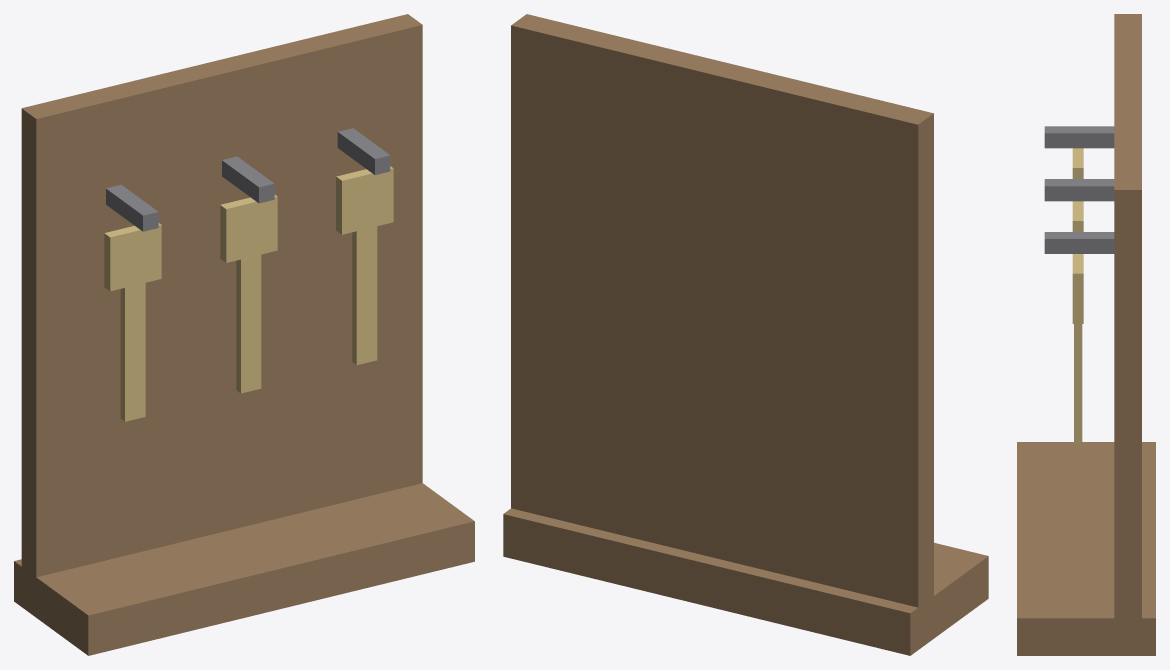
The model's file is prop-key-blank-rack.fbx.
The picture shows the model from 3 angles, left to right: view 1: azimuth 30°, elevation 25°; view 2: azimuth 150°, elevation 25°; view 3: azimuth 270°, elevation 25°; orthographic projection. The views are drawn at different scales.
Visible parts, largest first — view 1: prop-key-blank-rack; view 2: prop-key-blank-rack; view 3: prop-key-blank-rack.
Part boxes in pixels (bbox=[...]): prop-key-blank-rack: bbox=[14, 14, 474, 655]; prop-key-blank-rack: bbox=[503, 14, 988, 655]; prop-key-blank-rack: bbox=[1017, 14, 1155, 655].
Size of the model in its own units: 30 by 37 by 10.
